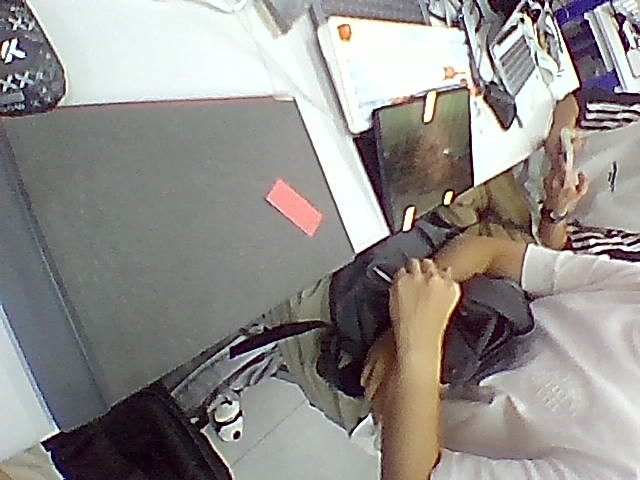card: (266, 178, 322, 236)
